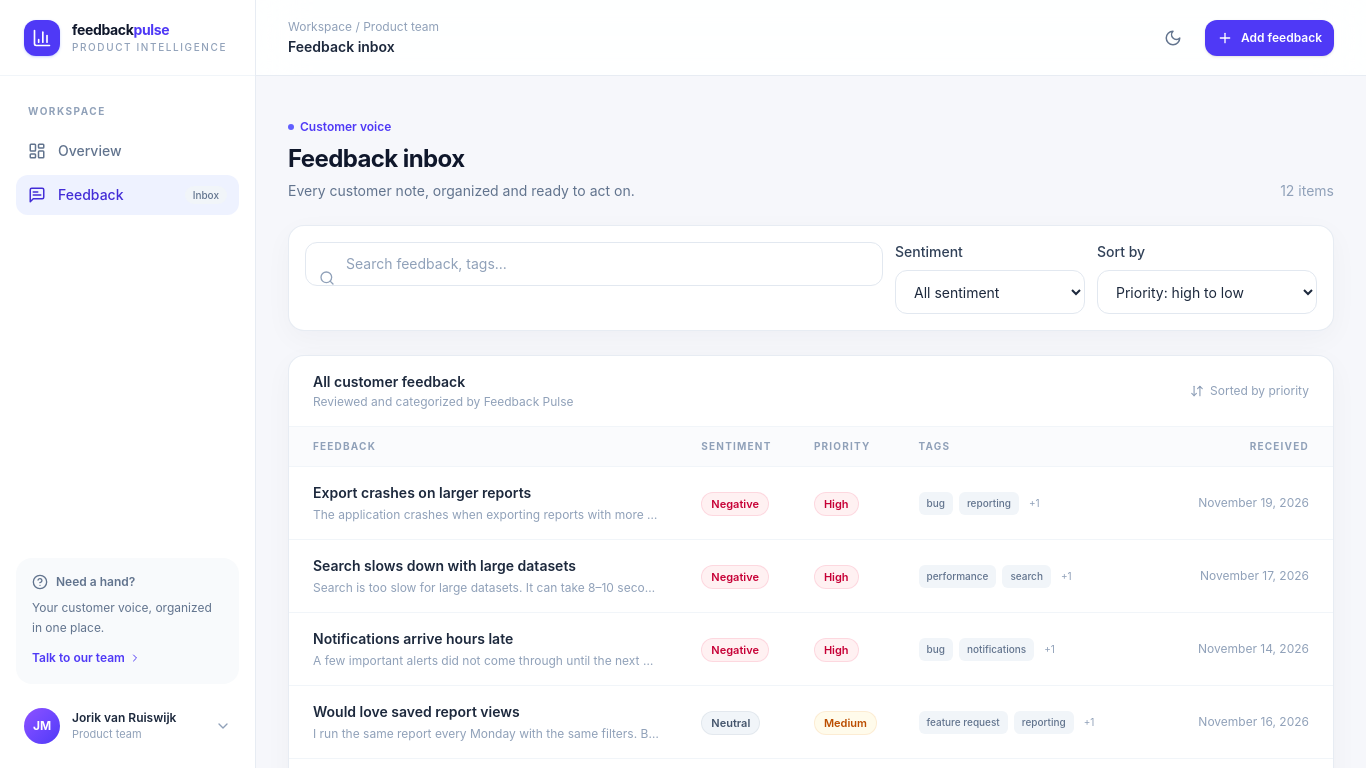
Test case: feedback inbox › shows an empty state when no results match the search
Expected: the link "Export crashes on larger reports" is shown, top-left (313, 484), bottom-right (531, 501)
In the field labelled "Search feedback": {"x": 594, "y": 264} top-left (305, 242), bottom-right (883, 286), type "nothing matches this"
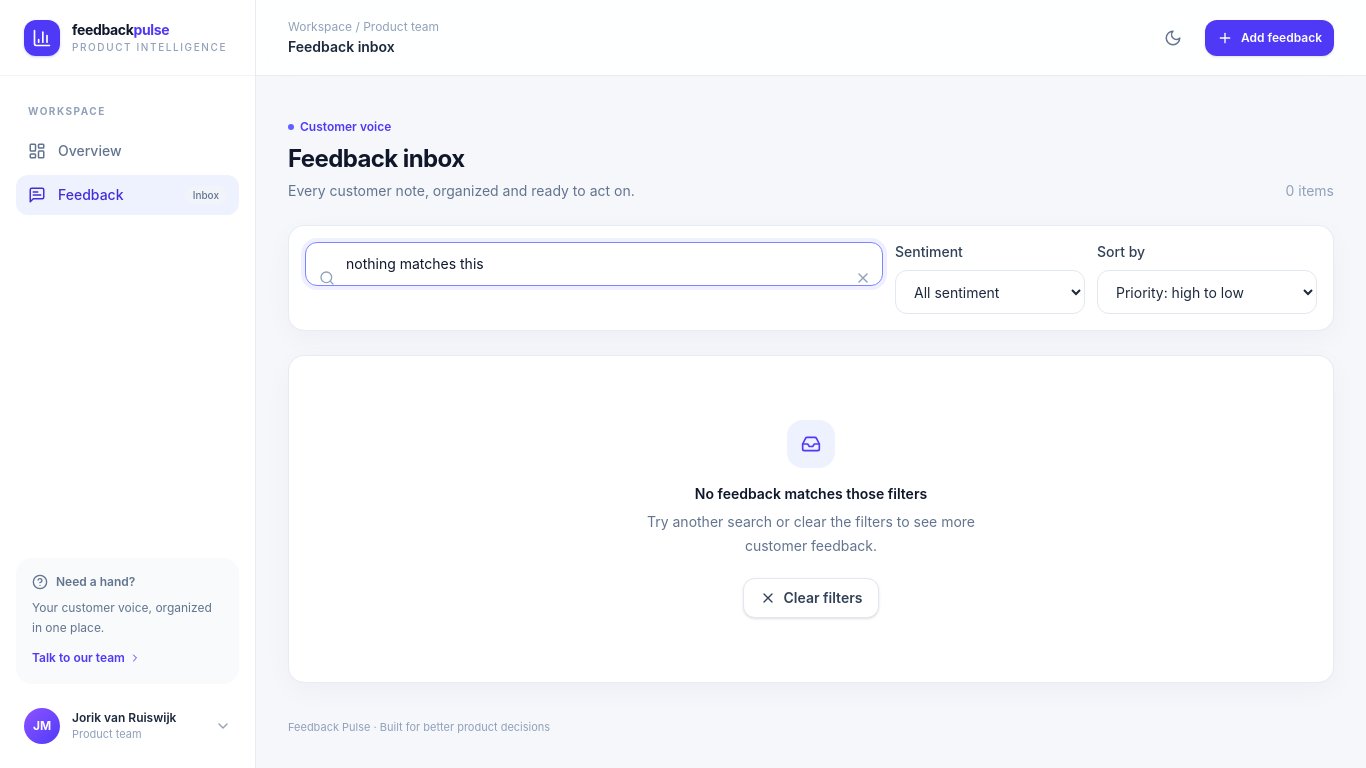
Now the heading "No feedback matches those filters" is shown, box top-left (695, 484), bottom-right (927, 504)
Now the button "Clear filters" is shown, box top-left (742, 578), bottom-right (879, 618)
